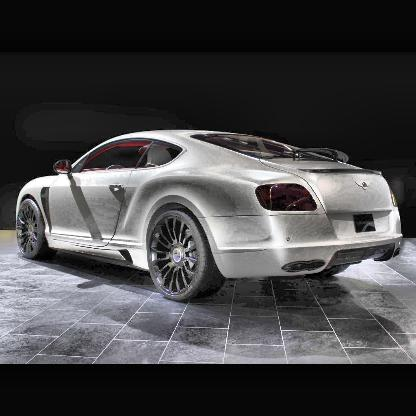Bentley Continental GT Coupe 2007: (17, 132, 404, 305)
